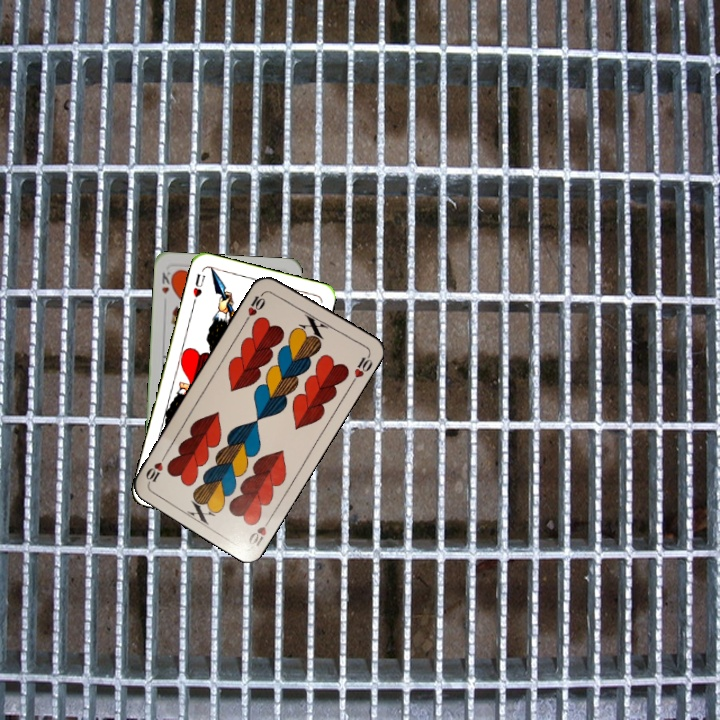H10: (244, 512, 276, 549), (242, 287, 268, 324)
HK: (158, 267, 176, 296)
HU: (189, 269, 208, 307)
